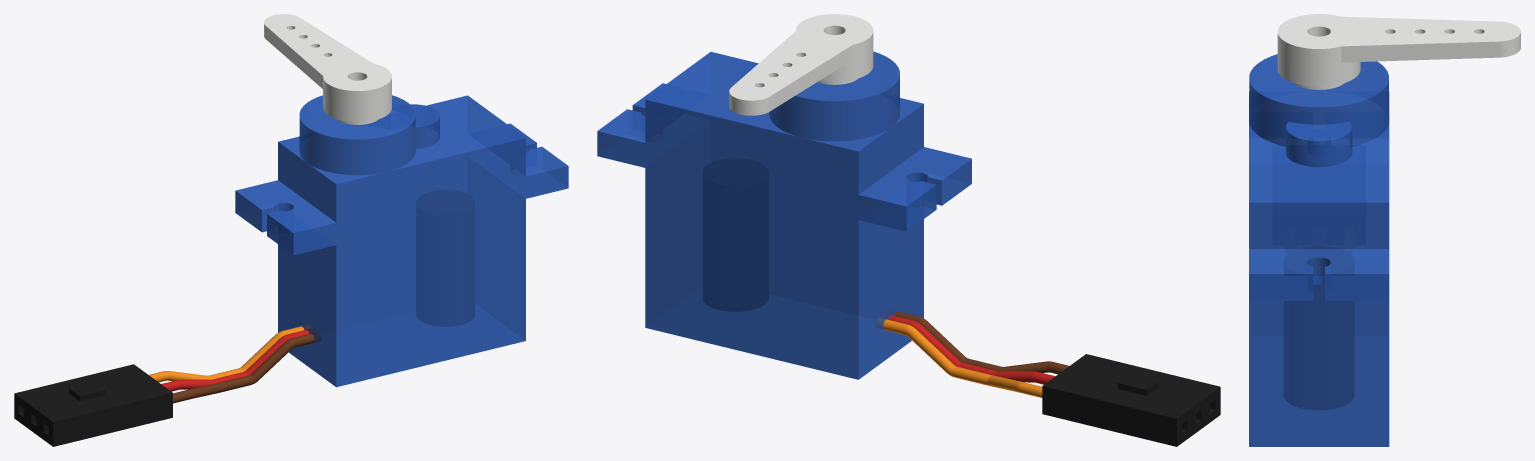
The model's file is servo-sg90.glb.
The picture shows the model from 3 angles, left to right: view 1: azimuth 30°, elevation 25°; view 2: azimuth 150°, elevation 25°; view 3: azimuth 270°, elevation 25°; orthographic projection. The views are drawn at different scales.
Parts seen in each view (by area): view 1: object 1, object 5, object 2, horn, object 6, object 7, object 8; view 2: object 1, object 5, object 2, horn, object 8, object 6, object 7; view 3: object 1, horn, object 2.
Boxes of the visible parts, x1,y1,x2,y2 form: object 1: (235, 95, 568, 387); object 5: (14, 364, 172, 446); object 2: (416, 190, 474, 326); horn: (264, 14, 391, 122); object 6: (173, 332, 320, 403); object 7: (161, 329, 315, 391); object 8: (149, 325, 310, 382); object 1: (597, 51, 971, 379); object 5: (1042, 354, 1220, 446); object 2: (703, 158, 768, 311); horn: (729, 14, 873, 115); object 8: (876, 318, 1042, 397); object 6: (887, 310, 1069, 374); object 7: (882, 314, 1055, 384); object 1: (1249, 54, 1389, 446); horn: (1277, 14, 1520, 86); object 2: (1284, 246, 1353, 409).
Size of the model in its own units: 0.0592 by 0.031 by 0.0229.
